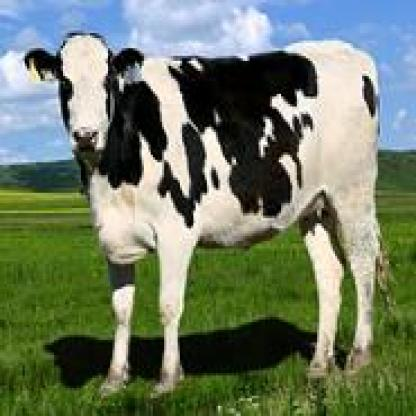cow: (23, 30, 380, 396)
